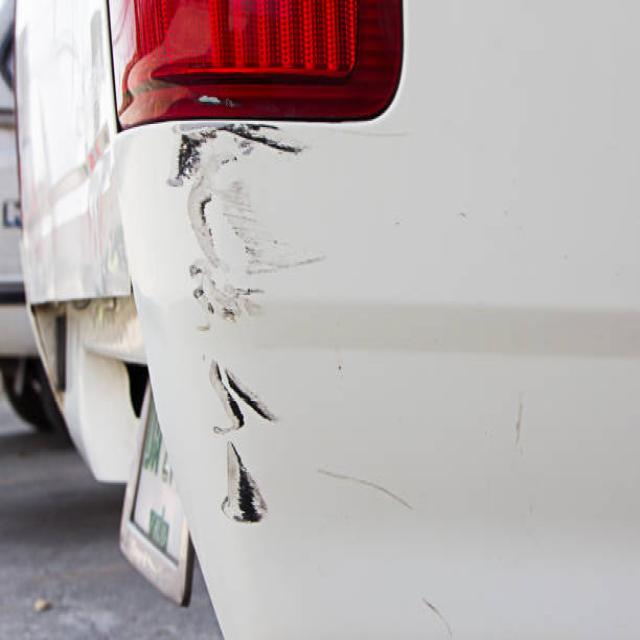scratch: (165, 110, 335, 540), (314, 446, 418, 519), (417, 573, 455, 640), (506, 387, 539, 460)
